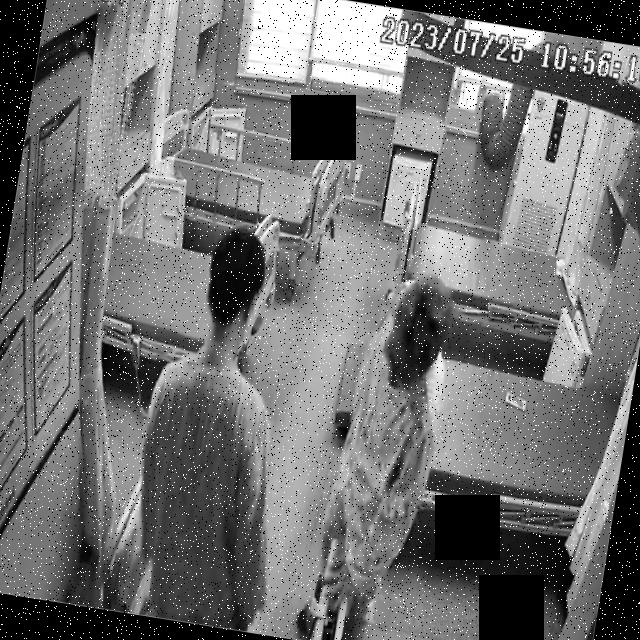bed: (352, 345, 628, 538), (74, 193, 282, 379), (149, 106, 357, 244), (388, 216, 586, 340)
patient: (114, 216, 324, 634), (303, 265, 463, 640)
